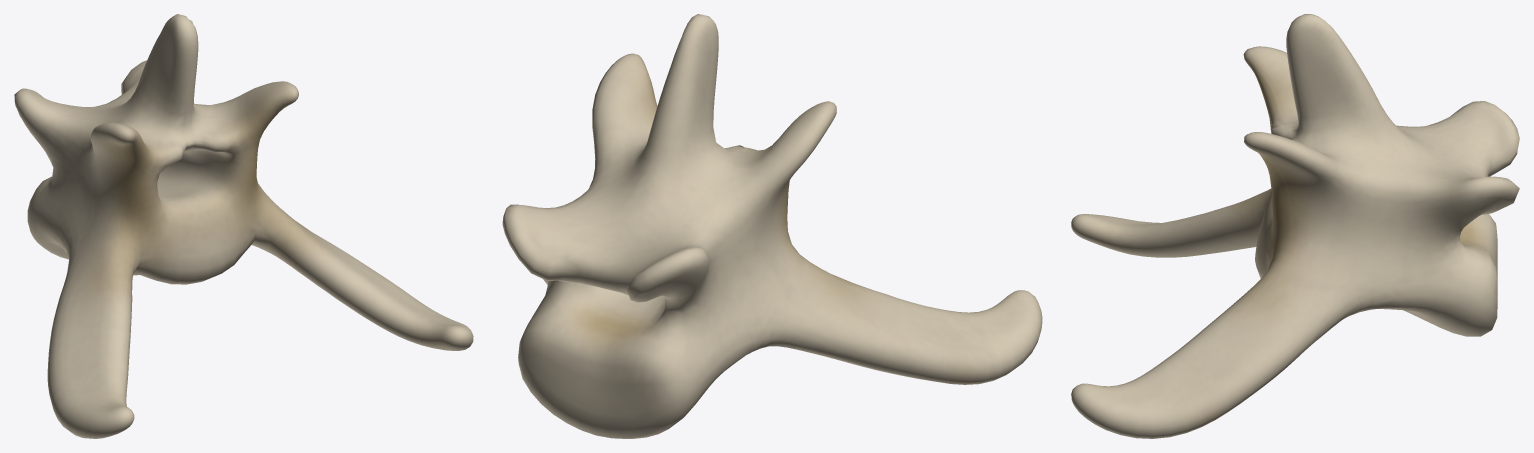
Rendered from vertebrae lumbales 7.fbx.
The picture shows the model from 3 angles, left to right: view 1: azimuth 30°, elevation 25°; view 2: azimuth 150°, elevation 25°; view 3: azimuth 270°, elevation 25°; orthographic projection. The views are drawn at different scales.
Parts seen in each view (by area): view 1: vertebrae lumbales 7; view 2: vertebrae lumbales 7; view 3: vertebrae lumbales 7.
Part boxes in pixels (x1=…): vertebrae lumbales 7: x1=14, y1=14, x2=473, y2=438; vertebrae lumbales 7: x1=502, y1=14, x2=1042, y2=438; vertebrae lumbales 7: x1=1071, y1=14, x2=1519, y2=438.
Size of the model in its own units: 11.6 by 8.99 by 11.07.
